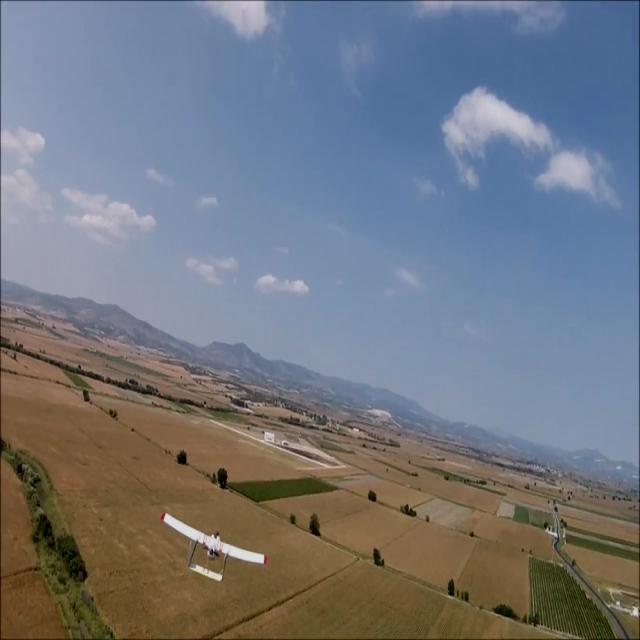iha: (190, 546, 239, 548)
